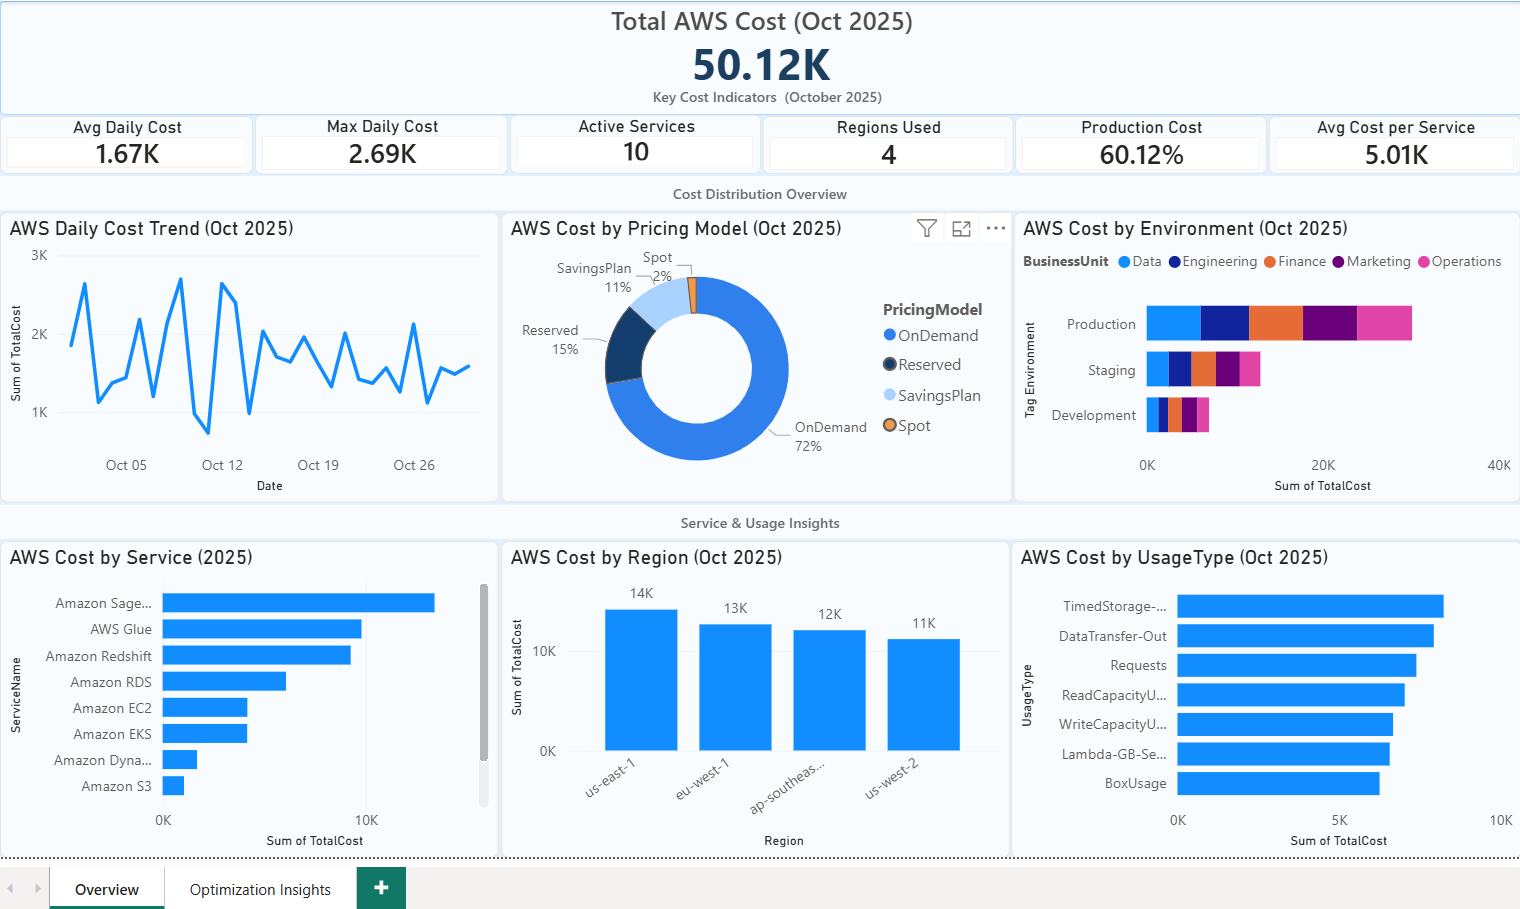

This screenshot's page, from the dashboard's own definition file:
{"tool":"powerbi","page":{"name":"Overview","canvas":[1280,720],"ordinal":0},"visuals":[{"type":"card","title":"Total AWS Cost (Oct 2025)","fields":{"Values":["aws_billing_daily_oct2025.Total AWS Cost"]},"box":[0,0,1280.6,95.7],"z":0},{"type":"clusteredColumnChart","title":"AWS Cost by Service (2025)","fields":{"Category":["aws_billing_daily_oct2025.ServiceName"],"Y":["Sum(aws_billing_daily_oct2025.TotalCost)"]},"box":[0,454.4,419,266],"z":1000},{"type":"clusteredColumnChart","title":"AWS Cost by Region (Oct 2025)","fields":{"Category":["aws_billing_daily_oct2025.Region"],"Y":["Sum(aws_billing_daily_oct2025.TotalCost)"]},"box":[421.3,454.4,428,266],"z":2000},{"type":"donutChart","title":"AWS Cost by Pricing Model (Oct 2025)","fields":{"Category":["aws_billing_daily_oct2025.PricingModel"],"Y":["Sum(aws_billing_daily_oct2025.TotalCost)"]},"box":[421.5,177.7,430,243.8],"z":3000},{"type":"barChart","title":"AWS Cost by Environment (Oct 2025)","fields":{"Category":["aws_billing_daily_oct2025.Tag_Environment"],"Y":["Sum(aws_billing_daily_oct2025.TotalCost)"],"Series":["aws_billing_daily_oct2025.BusinessUnit"]},"box":[853.1,177.7,426.2,243.8],"z":4000},{"type":"lineChart","title":"AWS Daily Cost Trend (Oct 2025)","fields":{"Y":["Sum(aws_billing_daily_oct2025.TotalCost)"],"Category":["aws_billing_daily_oct2025.Date"]},"box":[0,177.7,420,243.8],"z":5000},{"type":"clusteredColumnChart","title":"AWS Cost by UsageType (Oct 2025)","fields":{"Category":["aws_billing_daily_oct2025.UsageType"],"Y":["Sum(aws_billing_daily_oct2025.TotalCost)"]},"box":[851.1,454.2,429.5,266],"z":6000},{"type":"cardVisual","title":"Avg Daily Cost","fields":{"Data":["select","aws_billing_daily_oct2025.Avg Daily Cost"]},"box":[0,96.9,213.1,48.5],"z":7000},{"type":"cardVisual","title":"Max Daily Cost","fields":{"Data":["select","aws_billing_daily_oct2025.Max Daily Cost","select1"]},"box":[214.5,95.5,213,50],"z":8000},{"type":"textbox","box":[527.8,70.4,235.5,25.2],"z":9000},{"type":"textbox","box":[0,423.5,1278.9,29],"z":10000},{"type":"cardVisual","title":"Active Services","fields":{"Data":["select","select1","aws_billing_daily_oct2025.Active Services"]},"box":[428.5,96.2,211.5,49.2],"z":11000},{"type":"cardVisual","title":"Regions Used","fields":{"Data":["select","select1","aws_billing_daily_oct2025.Active Regions"]},"box":[641.1,97.1,211,49],"z":12000},{"type":"cardVisual","title":"Production Cost","fields":{"Data":["select","select1","aws_billing_daily_oct2025.Production Cost %"]},"box":[853.3,97,212,49],"z":13000},{"type":"cardVisual","title":"Avg Cost per Service","fields":{"Data":["select","select1","aws_billing_daily_oct2025.Avg Cost per Service"]},"box":[1067.3,97,213,49],"z":14000},{"type":"textbox","box":[0,146.9,1278.5,28.5],"z":15000}]}

Visuals, with their boxes on the page's 1280x720 design canvas (x1, y1, x2, y2). These are canvas units, not pixel positions in the 1520x909 screenshot, which may show the page scaled, cropped or inside an application window:
"Total AWS Cost (Oct 2025)" card: rect(0, 0, 1281, 96)
"AWS Cost by Service (2025)" clusteredColumnChart: rect(0, 454, 419, 720)
"AWS Cost by Region (Oct 2025)" clusteredColumnChart: rect(421, 454, 849, 720)
"AWS Cost by Pricing Model (Oct 2025)" donutChart: rect(422, 178, 852, 422)
"AWS Cost by Environment (Oct 2025)" barChart: rect(853, 178, 1279, 422)
"AWS Daily Cost Trend (Oct 2025)" lineChart: rect(0, 178, 420, 422)
"AWS Cost by UsageType (Oct 2025)" clusteredColumnChart: rect(851, 454, 1281, 720)
"Avg Daily Cost" cardVisual: rect(0, 97, 213, 145)
"Max Daily Cost" cardVisual: rect(214, 96, 428, 146)
textbox: rect(528, 70, 763, 96)
textbox: rect(0, 424, 1279, 452)
"Active Services" cardVisual: rect(428, 96, 640, 145)
"Regions Used" cardVisual: rect(641, 97, 852, 146)
"Production Cost" cardVisual: rect(853, 97, 1065, 146)
"Avg Cost per Service" cardVisual: rect(1067, 97, 1280, 146)
textbox: rect(0, 147, 1278, 175)
